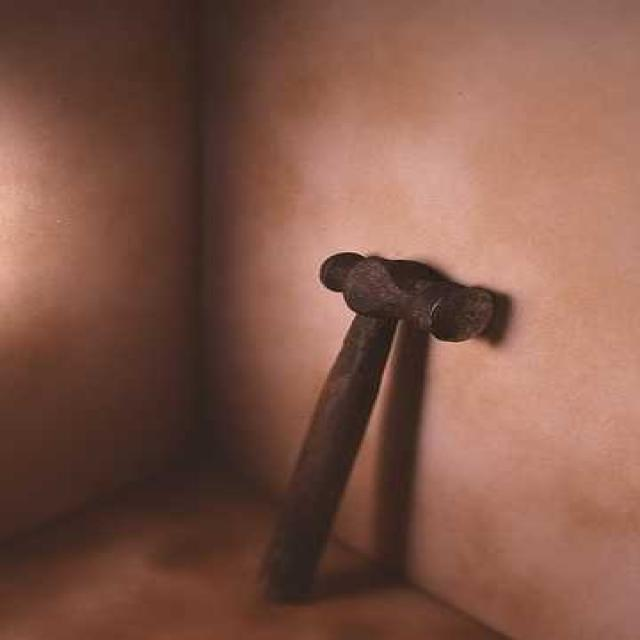hammer: (255, 249, 511, 628)
